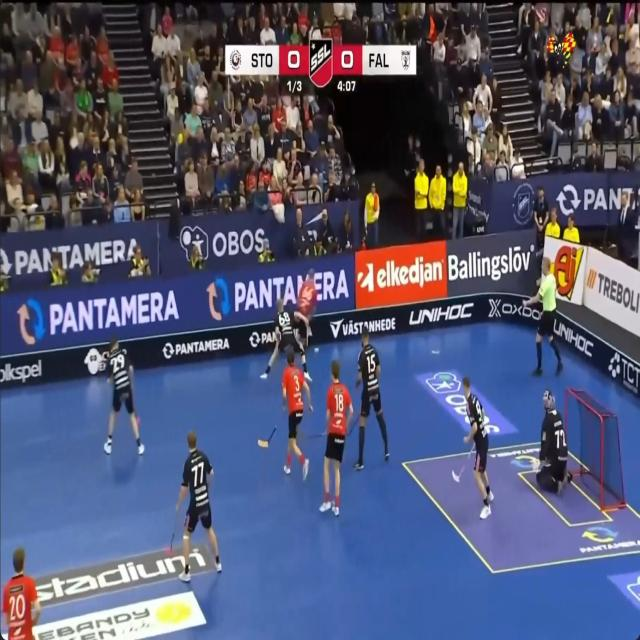Balls: (313, 347, 319, 354)
player: (176, 432, 222, 580), (320, 360, 353, 515), (354, 328, 389, 469), (104, 338, 144, 455), (523, 257, 562, 376), (463, 377, 493, 517), (261, 298, 311, 380), (282, 350, 312, 480), (536, 390, 572, 494), (2, 548, 41, 639), (297, 269, 316, 347)
stick: (167, 511, 179, 555), (258, 426, 276, 447), (300, 430, 326, 439), (465, 445, 475, 466), (452, 465, 464, 482), (129, 366, 135, 400), (347, 420, 358, 436), (136, 411, 140, 428)
